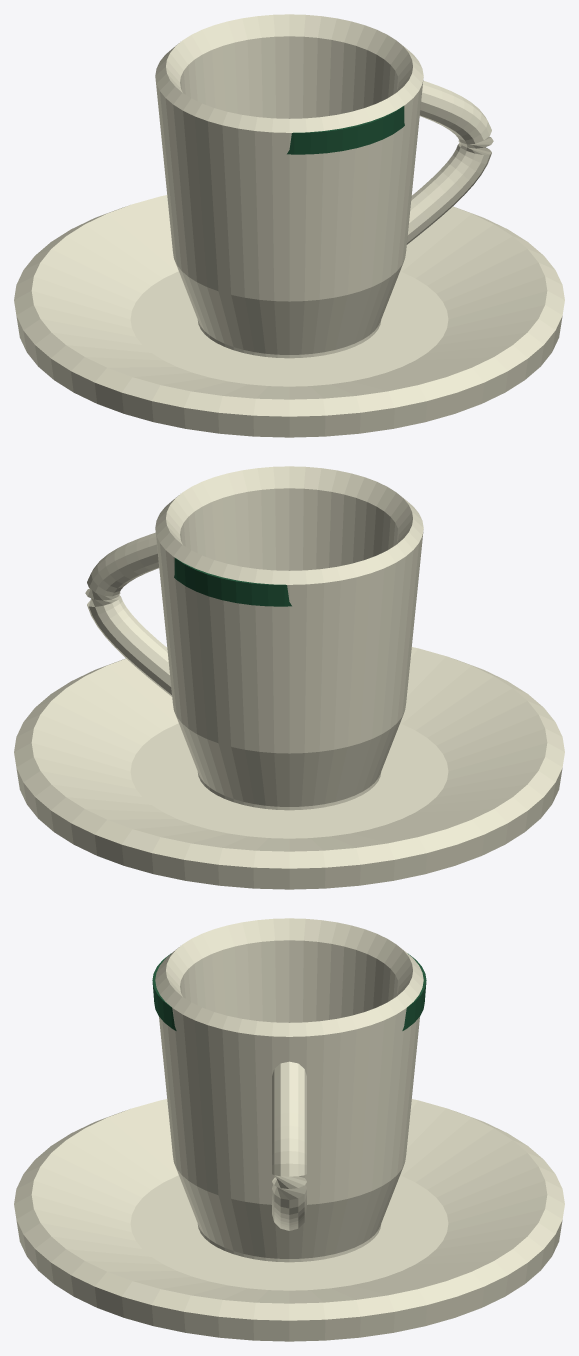
File: kopitiam-saucer-and-cup-reopened-edit.glb
3 renders of one model, top to bottom at view 1: azimuth 30°, elevation 25°; view 2: azimuth 150°, elevation 25°; view 3: azimuth 270°, elevation 25°, orthographic.
Parts seen in each view (by area): view 1: SAUCER_Profile, CUP_HollowBody, HANDLE_Porcelain, BAND_GreenRim, FOOT_CupRing; view 2: SAUCER_Profile, CUP_HollowBody, HANDLE_Porcelain, BAND_GreenRim, FOOT_CupRing; view 3: SAUCER_Profile, CUP_HollowBody, HANDLE_Porcelain, BAND_GreenRim, FOOT_CupRing.
Boxes of the visible parts, <box> form: SAUCER_Profile: <box>14,195,564,437</box>; CUP_HollowBody: <box>155,14,423,354</box>; HANDLE_Porcelain: <box>407,80,493,244</box>; BAND_GreenRim: <box>287,106,404,154</box>; FOOT_CupRing: <box>197,320,381,358</box>; SAUCER_Profile: <box>14,647,564,889</box>; CUP_HollowBody: <box>155,466,423,806</box>; HANDLE_Porcelain: <box>85,532,171,696</box>; BAND_GreenRim: <box>174,558,291,606</box>; FOOT_CupRing: <box>197,772,381,810</box>; SAUCER_Profile: <box>14,1099,564,1341</box>; CUP_HollowBody: <box>155,918,423,1258</box>; HANDLE_Porcelain: <box>272,1061,306,1230</box>; BAND_GreenRim: <box>152,953,426,1030</box>; FOOT_CupRing: <box>197,1224,381,1262</box>.
Bounding box in the file's own units: 0.156 × 0.088 × 0.156.
